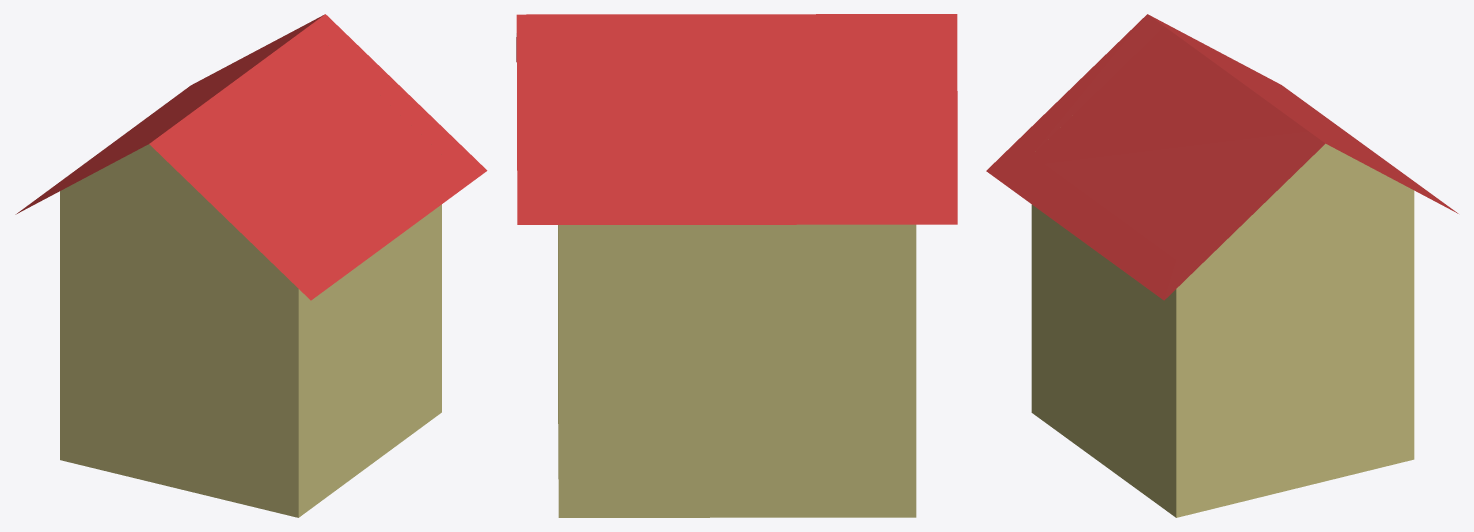
3 views of the same model, side by side, from view 1: azimuth 30°, elevation 25°; view 2: azimuth 150°, elevation 25°; view 3: azimuth 270°, elevation 25° (orthographic). The views are drawn at different scales.
Bounding box in the file's own units: 14.3 × 14.16 × 11.67.
